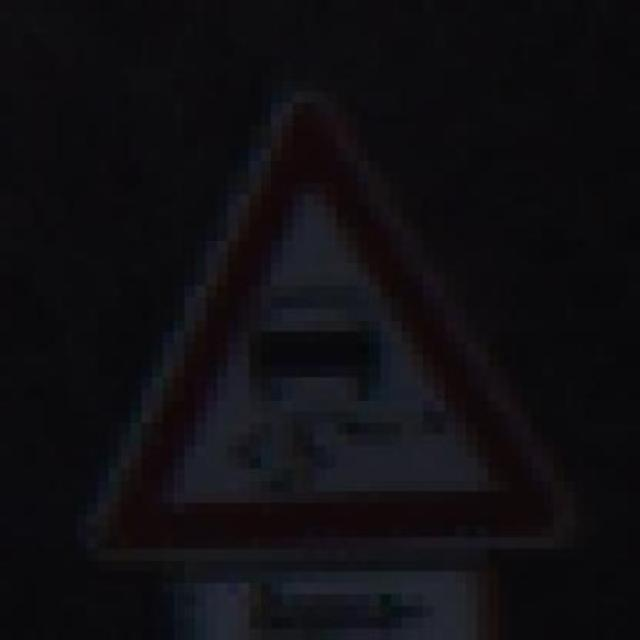Slippery Road Ahead: (75, 80, 576, 549)
